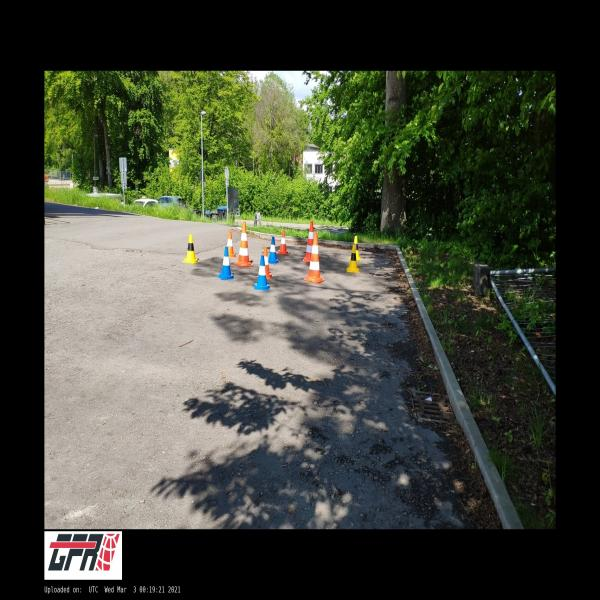blue_cone: (218, 246, 235, 280), (254, 255, 270, 290), (268, 236, 279, 264)
large_orange_cone: (304, 232, 324, 283), (234, 221, 254, 267), (302, 222, 314, 262)
orange_cone: (257, 246, 273, 278), (276, 230, 290, 254), (227, 231, 236, 257)
yellow_cone: (182, 234, 198, 263), (347, 245, 359, 273), (349, 236, 361, 260)
